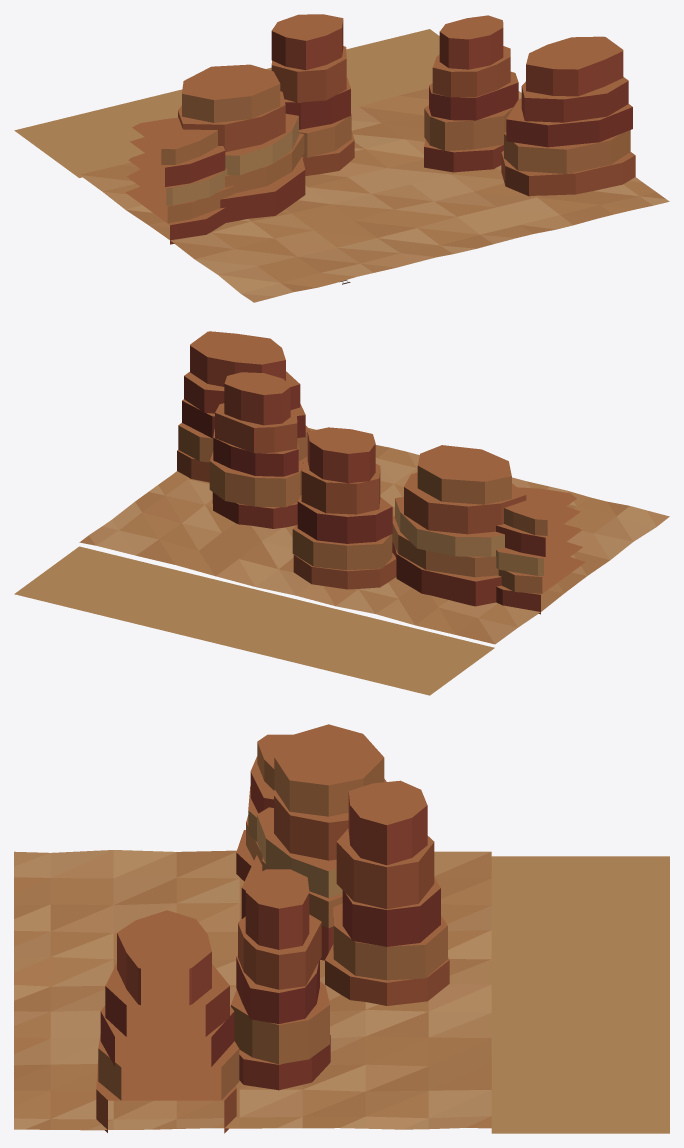
The picture shows the model from 3 angles, top to bottom: view 1: azimuth 30°, elevation 25°; view 2: azimuth 150°, elevation 25°; view 3: azimuth 270°, elevation 25°; orthographic projection. The views are drawn at different scales.
Parts seen in each view (by area): view 1: baked; view 2: baked; view 3: baked.
Boxes of the visible parts, x1,y1,x2,y2 form: baked: (14,14,669,302); baked: (14,331,669,695); baked: (14,724,669,1133).
Bounding box in the file's own units: 125 × 38.2 × 125.
